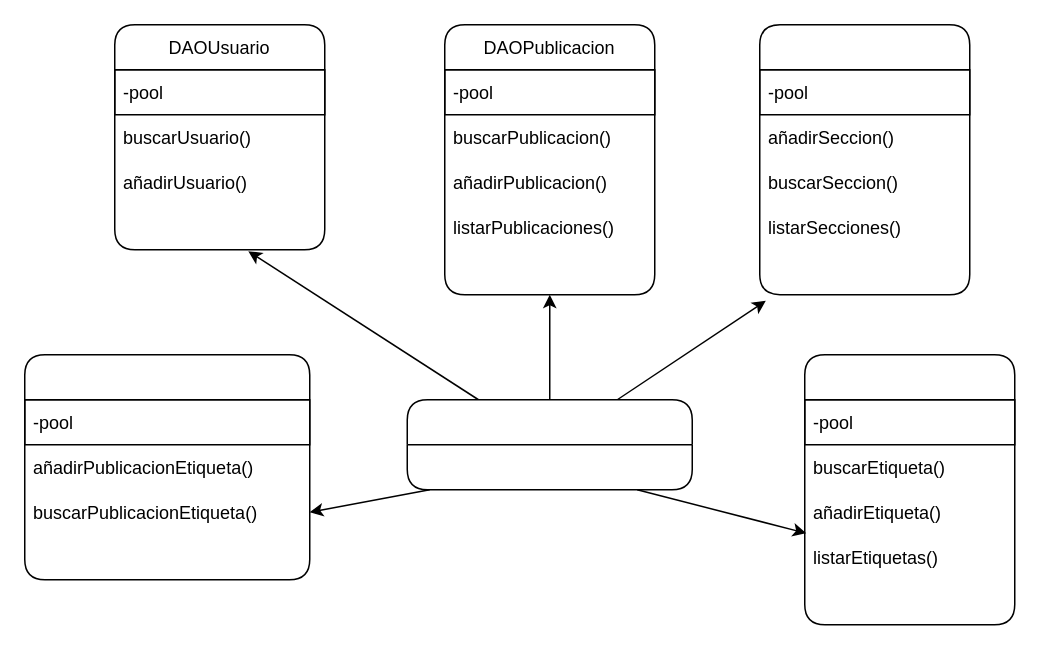
The diagram is 1040 pixels wide and 650 high, and some of its shapes have lost their labels. Here are the shapes that lost their labels. From the top down, the box of each, then its label:
(758, 23, 970, 295): DAOSeccion
(406, 398, 692, 490): app.js
(23, 353, 310, 580): DAOPublicacionEtiqueta
(803, 353, 1015, 625): DAOEtiqueta
